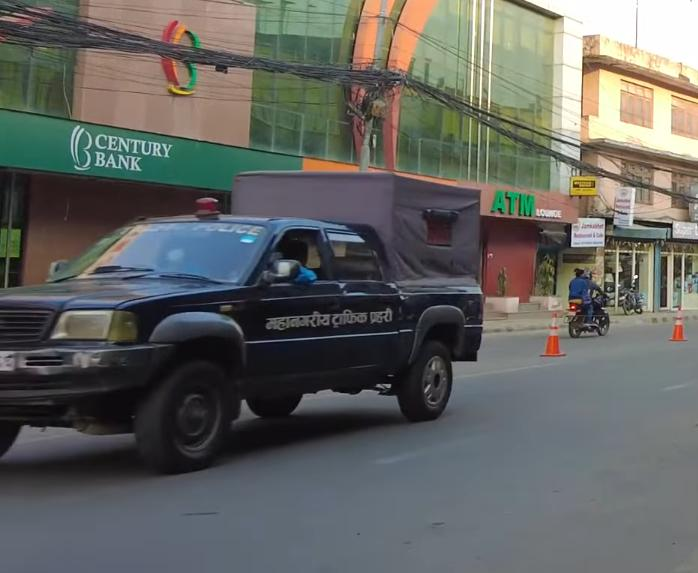police_vehicle: (0, 163, 490, 478)
